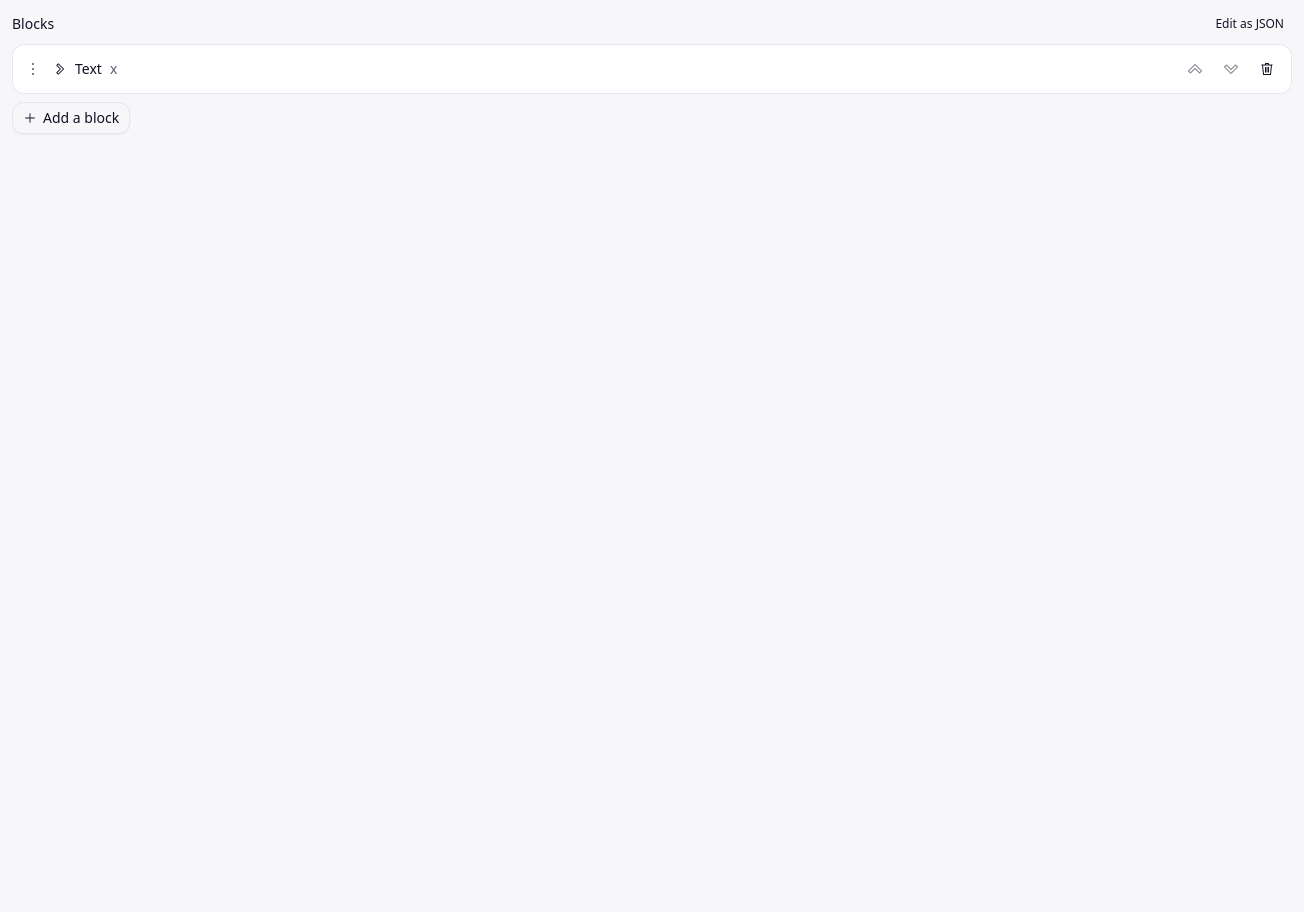
the palette and the tenant saved blocks › refuses a name a block that is code already has, since the site would ignore the preset
The image size is (1304, 912).
Click the button "Text x".
click(60, 69)  # box [49,55,1175,83]
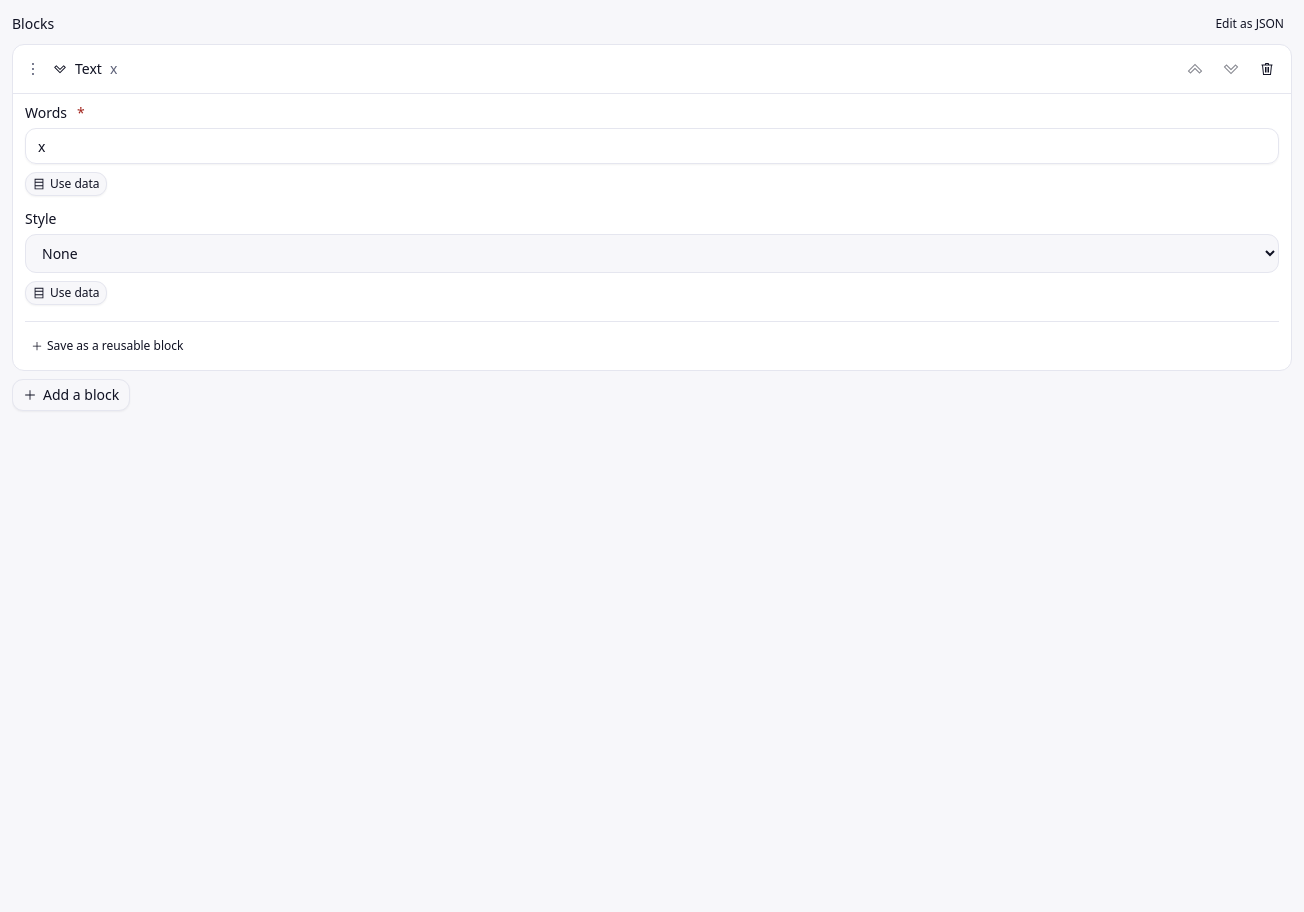
Click the button "Save as a reusable block".
click(107, 346)  # box [25,334,189,358]
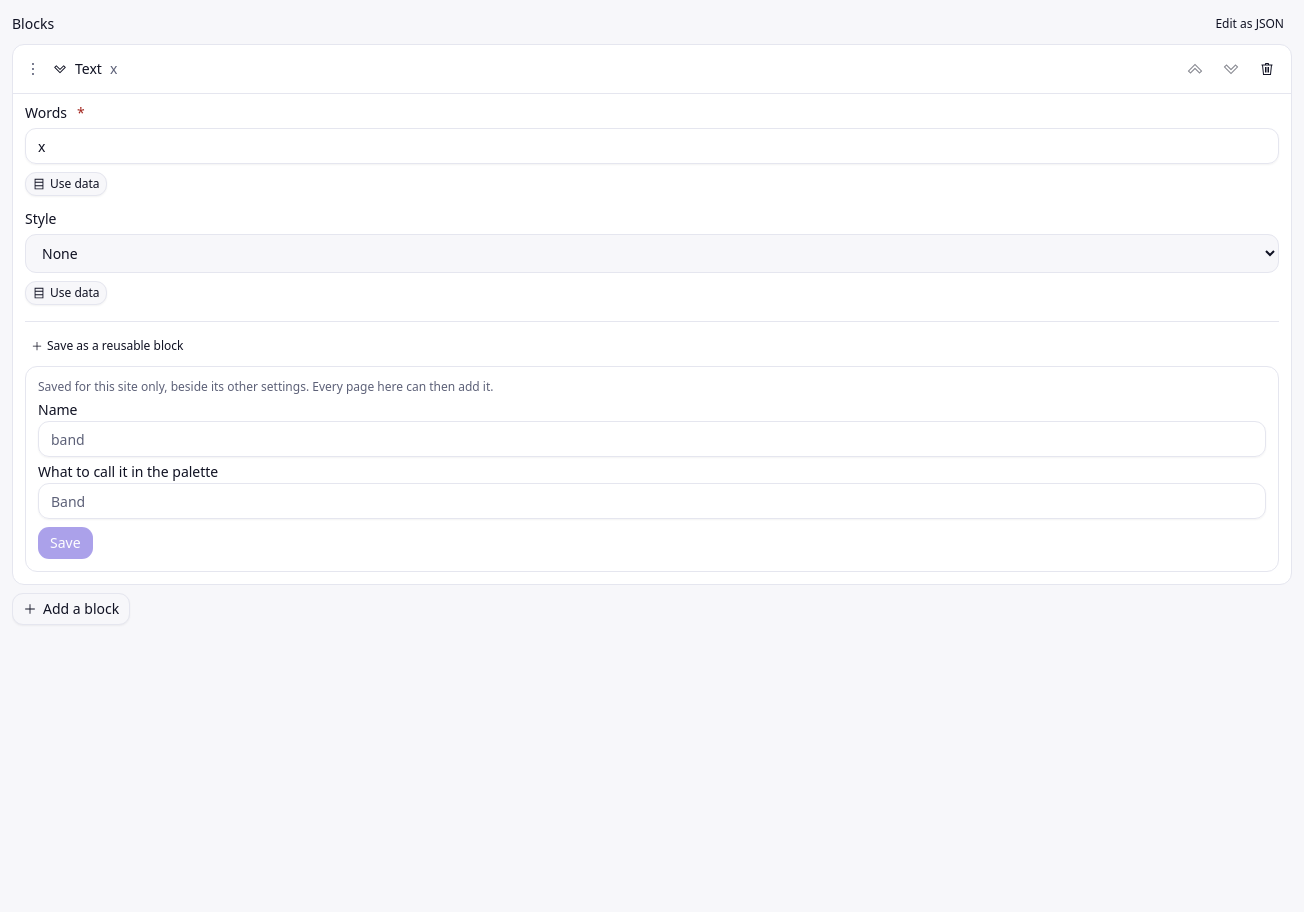
Type "text" into the field labelled "Name".
click(652, 439); type("text")  # box [38,421,1266,457]
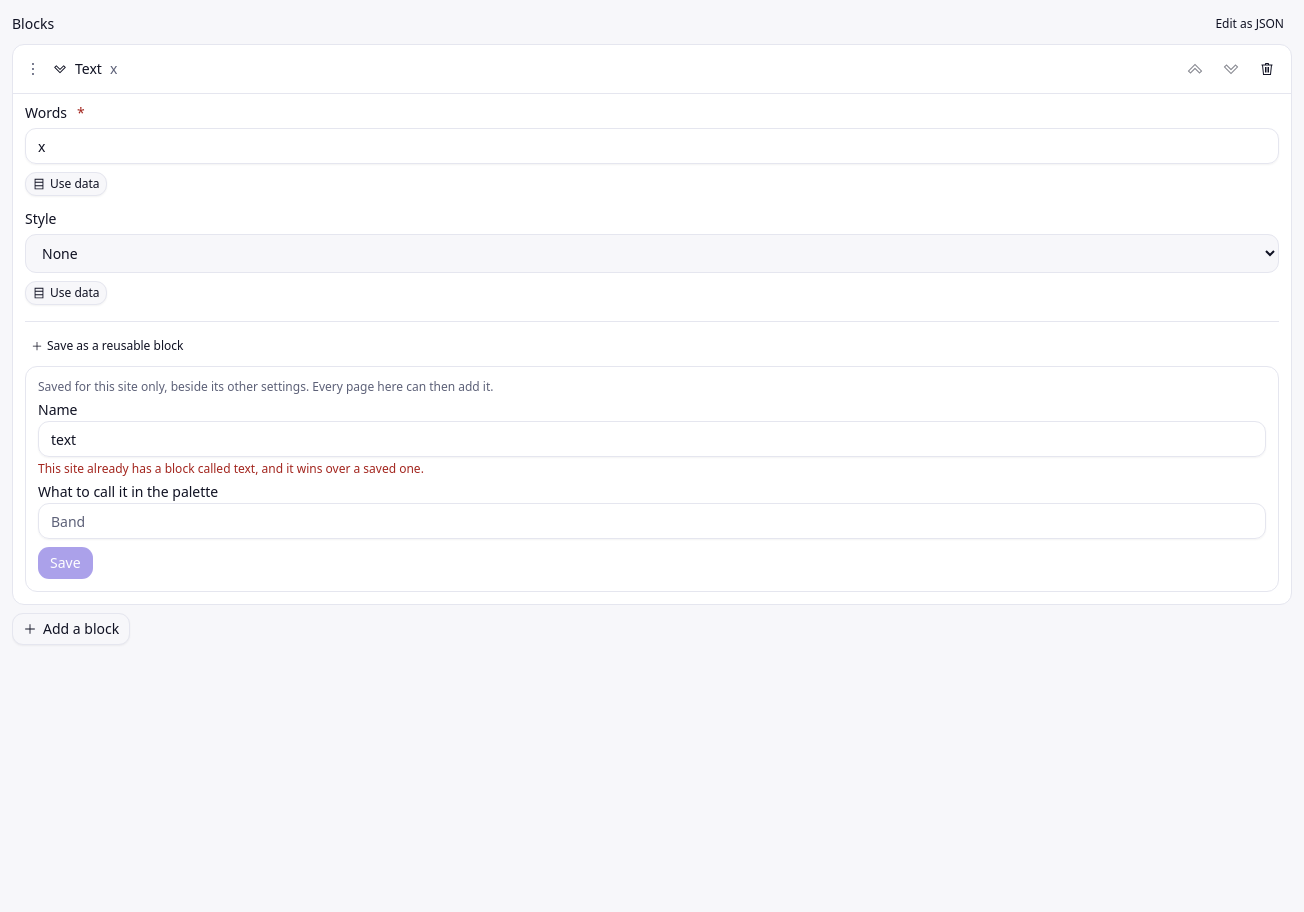
Check: the button "Save" is disabled, box [38,547,93,579]
Check: the text "already has a block called text" is shown, box [38,460,424,477]
